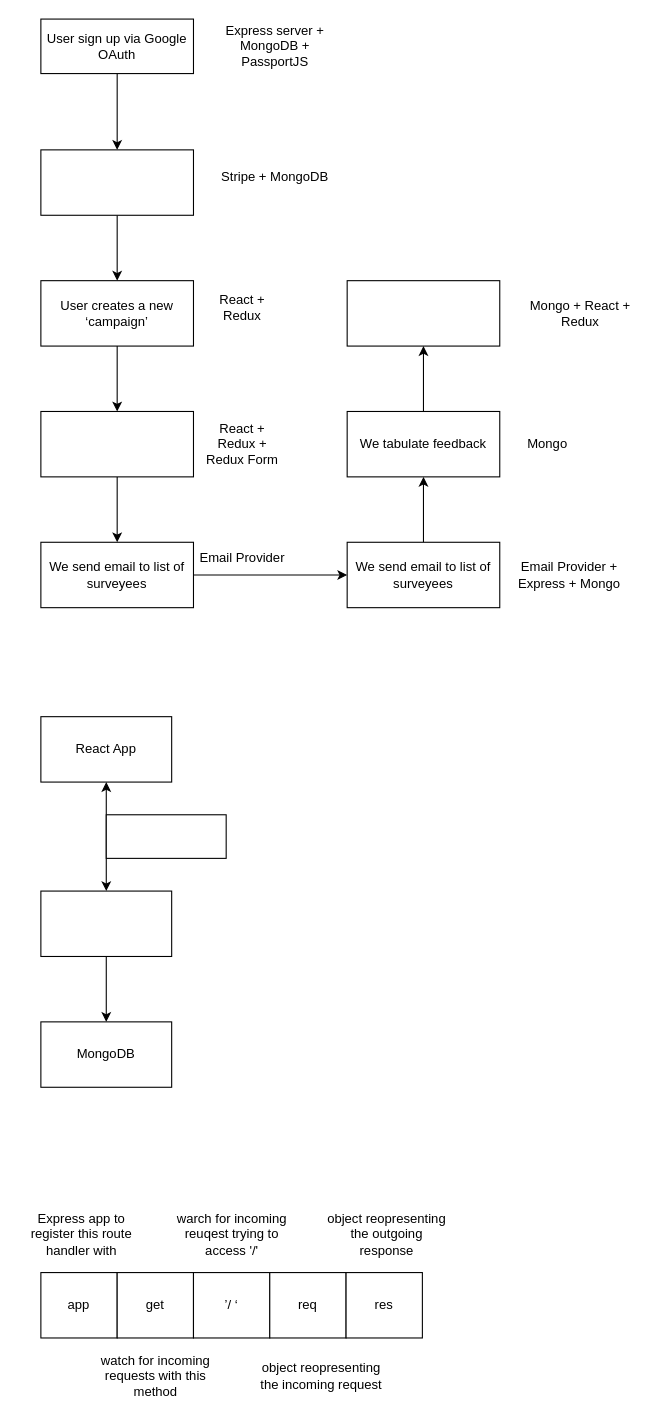
This 658x1418 diagram has some shape labels left out. The shapes that lost their labels are listed below. From the top down, each one's box as (x1, y1, x2, y2) in pixels, then its label:
(40, 149, 193, 215): User pays for email credits via stripe
(346, 280, 500, 346): User can see report of all survey responses
(40, 410, 193, 477): User enters list of emails to send survey to
(105, 814, 226, 858): HTTP Request (JSON)
(40, 890, 172, 956): Express/Node API
